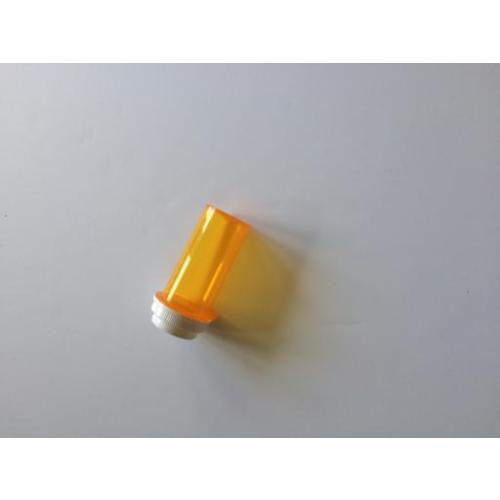plastic: (147, 202, 256, 339)
